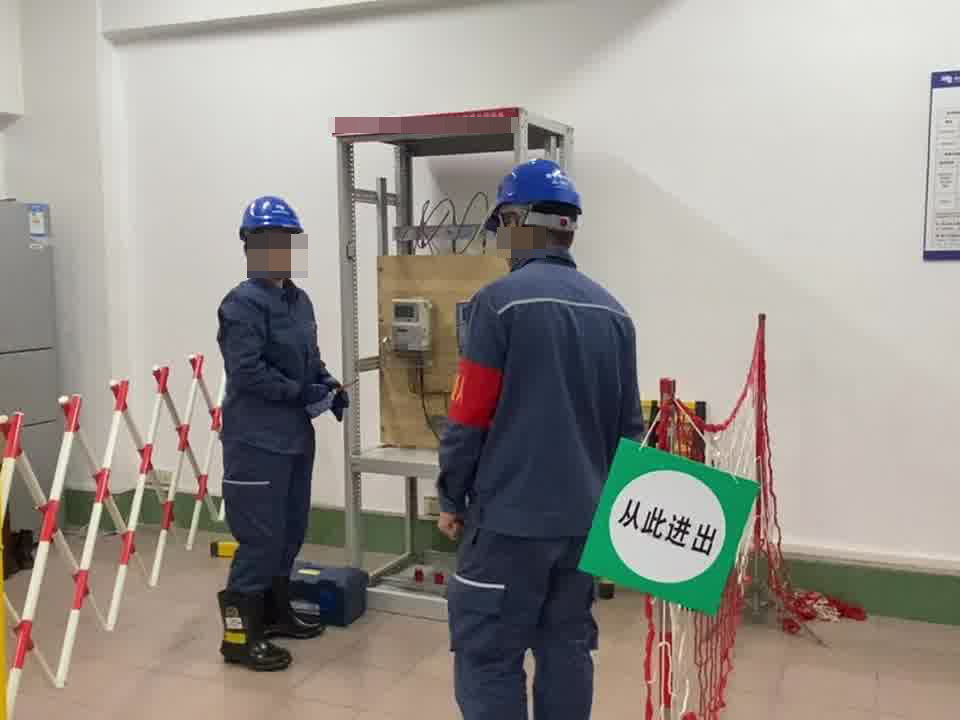badge: (445, 359, 506, 431)
downsuit: (446, 545, 601, 720), (222, 432, 315, 594)
glove: (321, 374, 347, 416), (305, 383, 334, 415)
goggles: (245, 234, 300, 275)
halt: (490, 159, 586, 247), (238, 194, 308, 279)
hand: (432, 502, 462, 538)
inear: (491, 210, 532, 253)
intosign: (577, 437, 760, 618)
person: (427, 154, 649, 720), (207, 193, 345, 646)
shoe: (215, 597, 331, 669)
upsuit: (435, 252, 649, 538), (218, 279, 325, 434)
